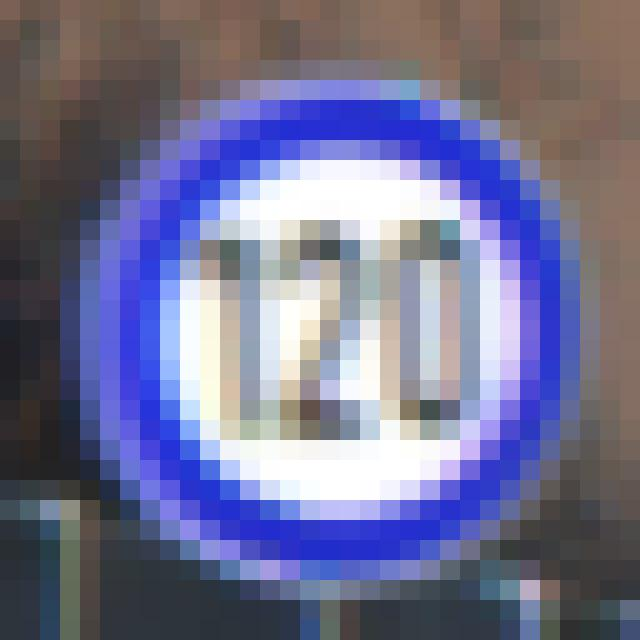SPEED LIMIT 120: (76, 97, 594, 592)
